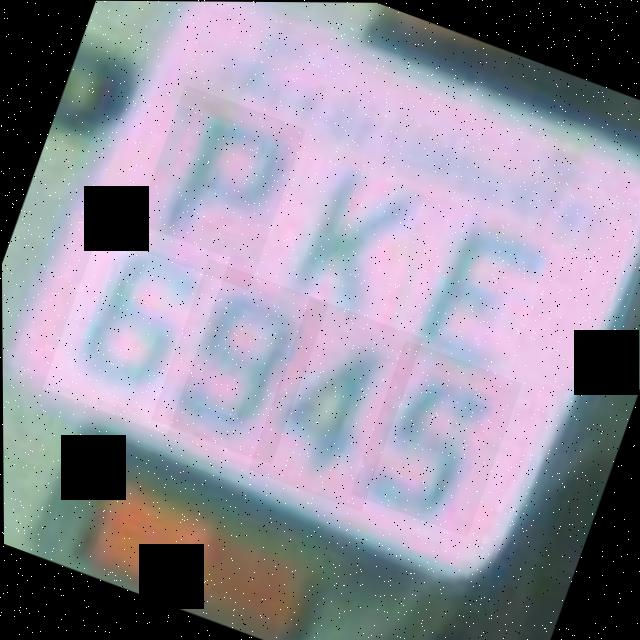4: (247, 296, 424, 512)
5: (349, 339, 523, 537)
6: (41, 212, 231, 435)
9: (149, 258, 330, 464)
B: (392, 185, 562, 381)
N: (252, 134, 433, 334)
P: (126, 84, 307, 290)
